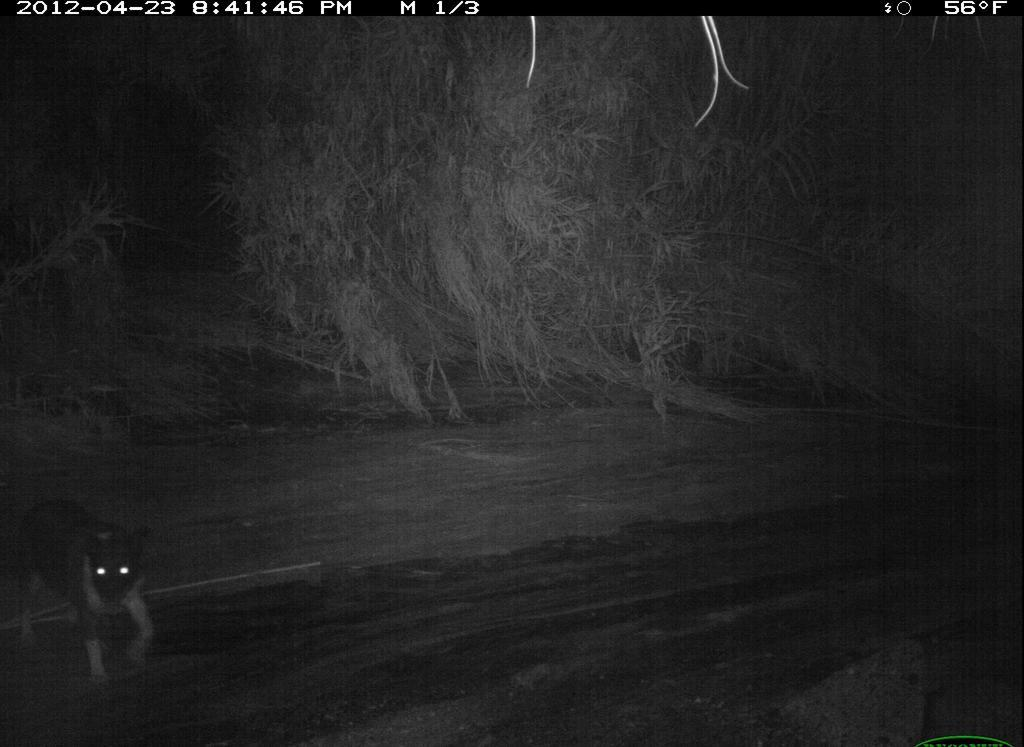dog: (9, 491, 176, 689)
